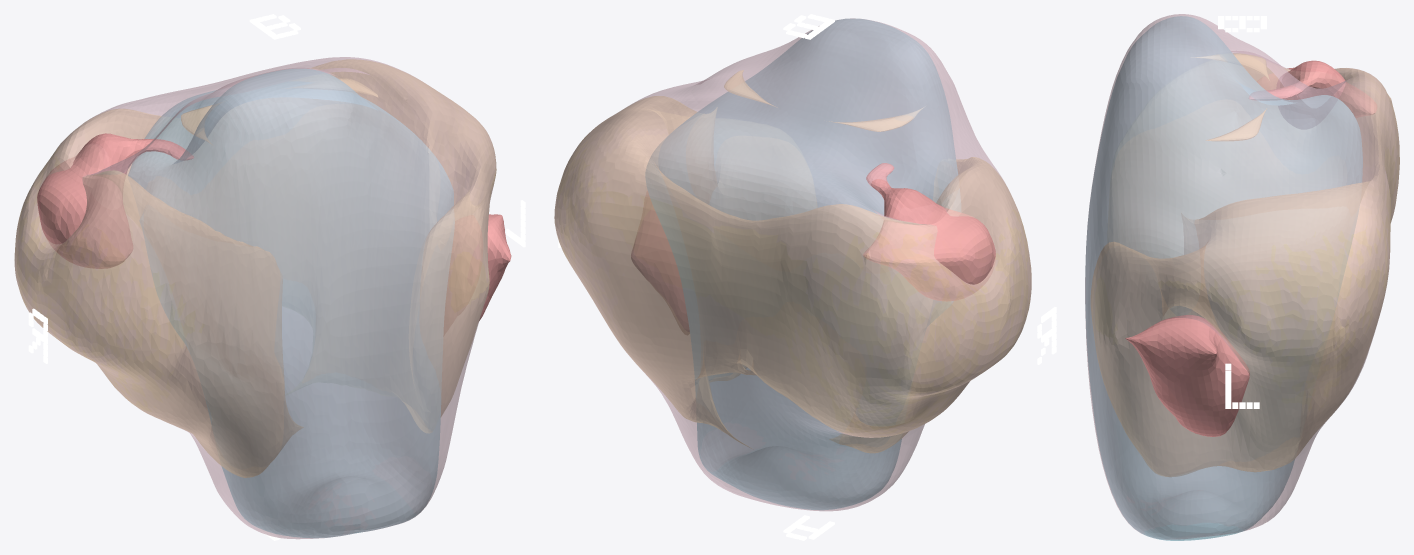
The picture shows the model from 3 angles, left to right: view 1: azimuth 30°, elevation 25°; view 2: azimuth 150°, elevation 25°; view 3: azimuth 270°, elevation 25°; orthographic projection.
Parts seen in each view (by area): view 1: prostate_gland, transition_zone, peripheral_zone, lesion_01, pv_ar_marker_B; view 2: prostate_gland, peripheral_zone, transition_zone, lesion_01, pv_ar_marker_B, pv_ar_marker_R; view 3: prostate_gland, peripheral_zone, transition_zone, lesion_01, pv_ar_marker_B, pv_ar_marker_L.
Part boxes in pixels (box(x1,y1,x2,y2)): prostate_gland: box(14, 57, 496, 539); transition_zone: box(128, 69, 454, 537); peripheral_zone: box(14, 59, 496, 477); lesion_01: box(37, 133, 511, 334); pv_ar_marker_B: box(249, 14, 300, 39); prostate_gland: box(554, 18, 1031, 511); peripheral_zone: box(554, 70, 1031, 452); transition_zone: box(645, 19, 960, 509); lesion_01: box(631, 163, 995, 334); pv_ar_marker_B: box(783, 14, 834, 39); pv_ar_marker_R: box(1037, 307, 1056, 364); prostate_gland: box(1085, 14, 1399, 539); peripheral_zone: box(1091, 53, 1399, 476); transition_zone: box(1085, 16, 1362, 540); lesion_01: box(1125, 60, 1376, 436); pv_ar_marker_B: box(1218, 16, 1266, 32); pv_ar_marker_L: box(1225, 363, 1259, 408).
Size of the model in its own units: 0.0392 by 0.0394 by 0.0226.
